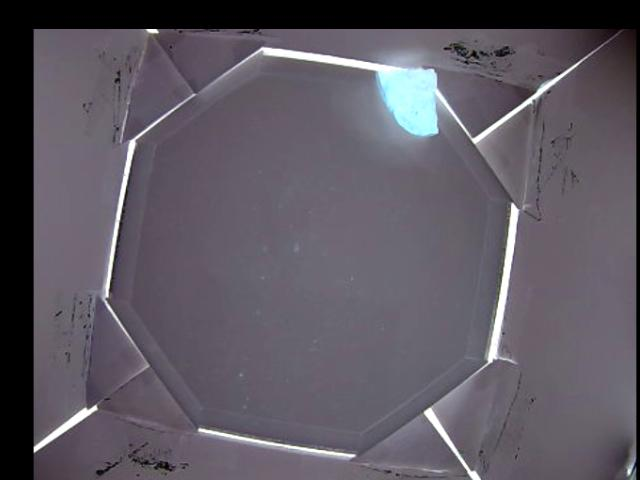Brisk: (375, 66, 442, 135)
